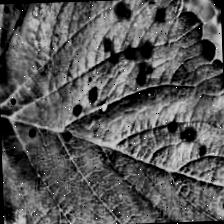Leaf Spot: (0, 0, 224, 224), (0, 0, 121, 98)
